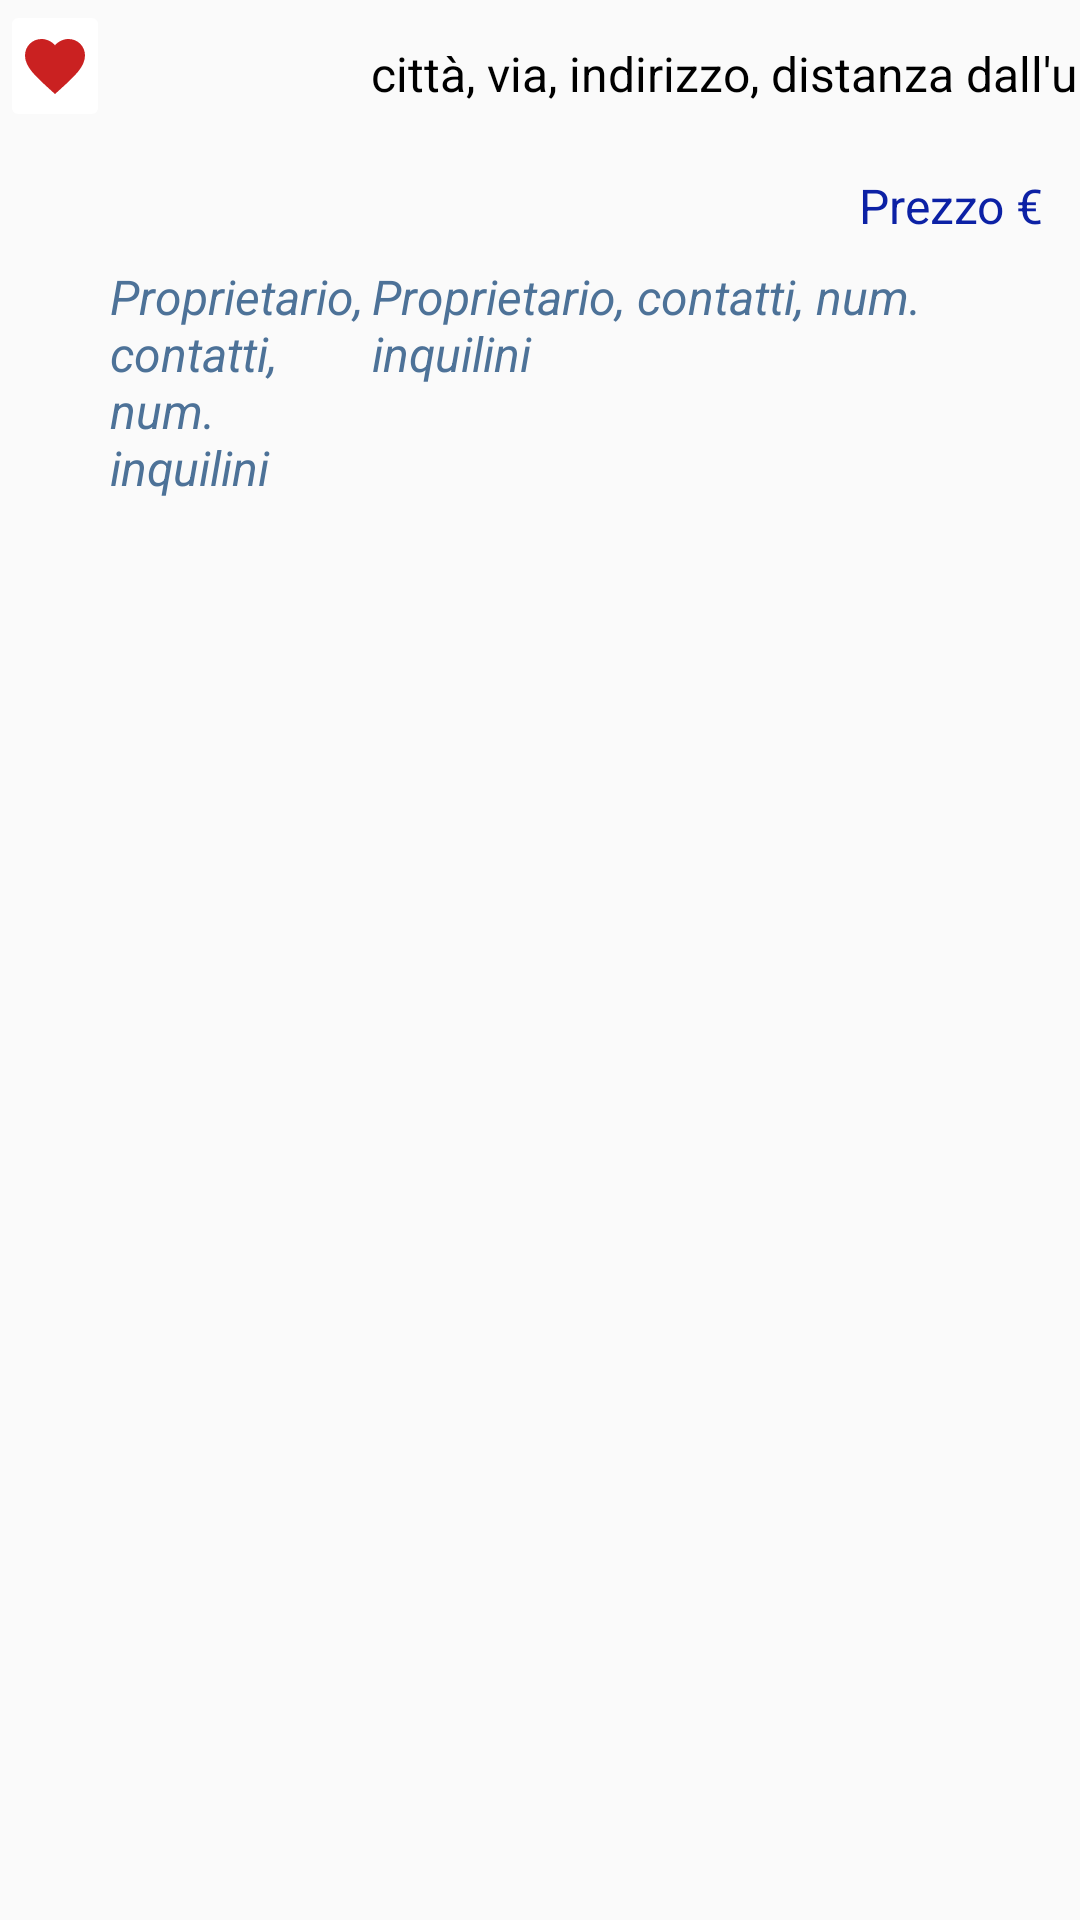

Point at icon controls on the screen. Image size 1080w x 1920h, points as point (x, y).
favorite: point (55, 66)
